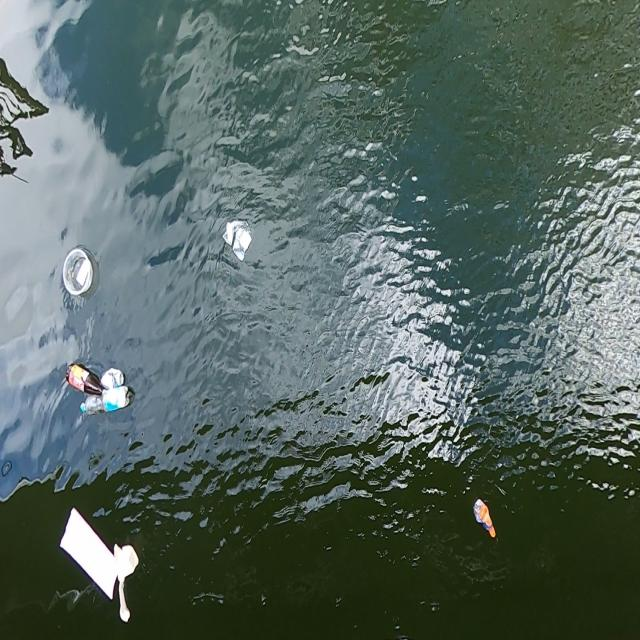Autre plastique: (57, 502, 117, 607), (59, 245, 98, 299)
Bouteille plastique: (74, 382, 140, 423), (63, 361, 102, 398)
Non plastique: (470, 494, 498, 548), (99, 362, 124, 391)
Sac plastique: (218, 212, 255, 266)
